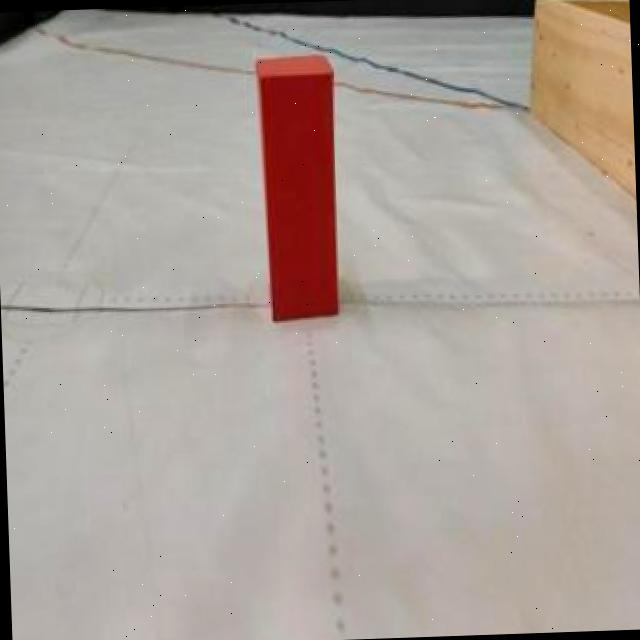redbox: (253, 52, 342, 321)
